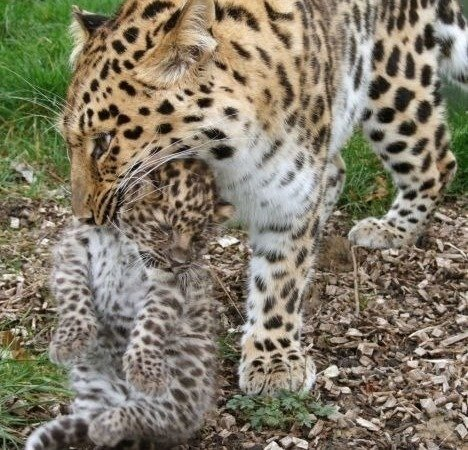amur_leopard: (46, 1, 450, 171), (106, 177, 255, 298)
